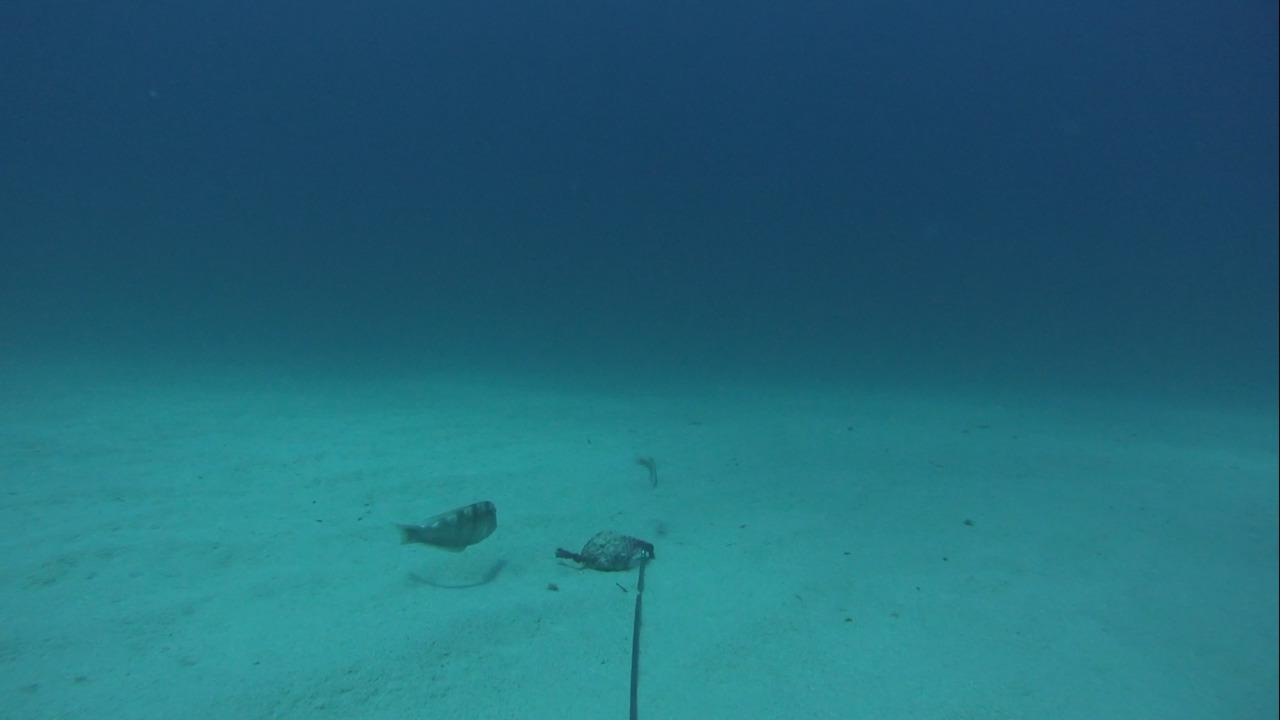raor: (390, 497, 502, 556), (624, 451, 663, 498)
